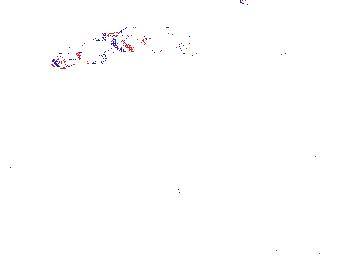red belly glassfish: (276, 50, 294, 65)
redtail glassfish: (48, 25, 131, 69), (119, 26, 199, 58)
siberian prawn: (27, 222, 90, 254)
